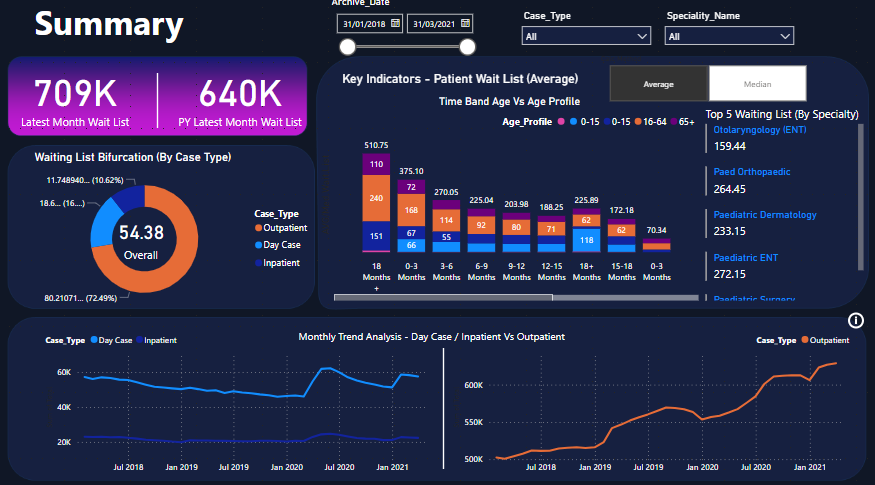

Layout of this report page (visuals, bound fields, positions):
{"tool":"powerbi","page":{"name":"Summary","canvas":[1280,720],"ordinal":0},"visuals":[{"type":"card","fields":{"Values":["All_Data.Latest Month Wait List"]},"box":[0,80,224,128],"z":0},{"type":"card","fields":{"Values":["All_Data.PY Latest Month Wait List"]},"box":[240,80,224,128],"z":1000},{"type":"donutChart","title":"Waiting List Bifurcation (By Case Type)","fields":{"Y":["All_Data.AVG/Med Wait List"],"Category":["All_Data.Case_Type"]},"box":[48,224,416,240],"z":2000},{"type":"columnChart","title":"Time Band Age Vs Age Profile","fields":{"Y":["All_Data.AVG/Med Wait List"],"Category":["All_Data.Time_Bands"],"Series":["All_Data.Age_Profile"]},"box":[464,144,560,304],"z":3000},{"type":"multiRowCard","title":"Top 5 Waiting List (By Specialty)","fields":{"Values":["All_Data.Speciality_Name","All_Data.AVG/Med Wait List"]},"box":[1024,160,240,288],"z":4000},{"type":"card","fields":{"Values":["All_Data.NoDataLeft"]},"box":[160,544,384,96],"z":5000},{"type":"lineChart","fields":{"Series":["All_Data.Case_Type"],"Category":["All_Data.Archive_Date"],"Y":["Sum(All_Data.Total)"]},"box":[64,480,576,224],"z":6000},{"type":"card","fields":{"Values":["All_Data.NoDataRight"]},"box":[784,544,384,96],"z":7000},{"type":"lineChart","fields":{"Series":["All_Data.Case_Type"],"Category":["All_Data.Archive_Date"],"Y":["Sum(All_Data.Total)"]},"box":[656,480,592,224],"z":8000},{"type":"slicer","title":"Archive_Date","fields":{"Values":["All_Data.Archive_Date"]},"box":[480,0,224,96],"z":9000},{"type":"slicer","fields":{"Values":["All_Data.Case_Type"]},"box":[752,16,208,80],"z":10000},{"type":"slicer","fields":{"Values":["All_Data.Speciality_Name"]},"box":[960,16,208,80],"z":11000},{"type":"card","fields":{"Values":["All_Data.Average Wait List"]},"box":[144,304,128,96],"z":13000},{"type":"shape","box":[160,112,144,80],"z":14000},{"type":"shape","box":[576,512,144,176],"z":15000},{"type":"textbox","box":[432,480,432,32],"z":16000},{"type":"card","fields":{"Values":["All_Data.Dynamic Title"]},"box":[480,96,384,48],"z":17000},{"type":"actionButton","box":[1232,448,32,48],"z":18000},{"type":"slicer","fields":{"Values":["Table.Calc Method"]},"box":[864,80,336,80],"z":19000},{"type":"textbox","box":[48,0,256,96],"z":19001}]}

Visuals, with their boxes in screenshot pixels (x1, y1, x2, y2), scaled from the page's 1280x720 canvas onto the 875x485 screenshot:
card - All_Data.Latest Month Wait List: [0,54,153,140]
card - All_Data.PY Latest Month Wait List: [164,54,317,140]
"Waiting List Bifurcation (By Case Type)" donutChart: [33,151,317,313]
"Time Band Age Vs Age Profile" columnChart: [317,97,700,302]
"Top 5 Waiting List (By Specialty)" multiRowCard: [700,108,864,302]
card - All_Data.NoDataLeft: [109,366,372,431]
lineChart - All_Data.Case_Type x All_Data.Archive_Date: [44,323,438,474]
card - All_Data.NoDataRight: [536,366,798,431]
lineChart - All_Data.Case_Type x All_Data.Archive_Date: [448,323,853,474]
"Archive_Date" slicer: [328,0,481,65]
slicer - All_Data.Case_Type: [514,11,656,65]
slicer - All_Data.Speciality_Name: [656,11,798,65]
card - All_Data.Average Wait List: [98,205,186,269]
shape: [109,75,208,129]
shape: [394,345,492,463]
textbox: [295,323,591,345]
card - All_Data.Dynamic Title: [328,65,591,97]
actionButton: [842,302,864,334]
slicer - Table.Calc Method: [591,54,820,108]
textbox: [33,0,208,65]
